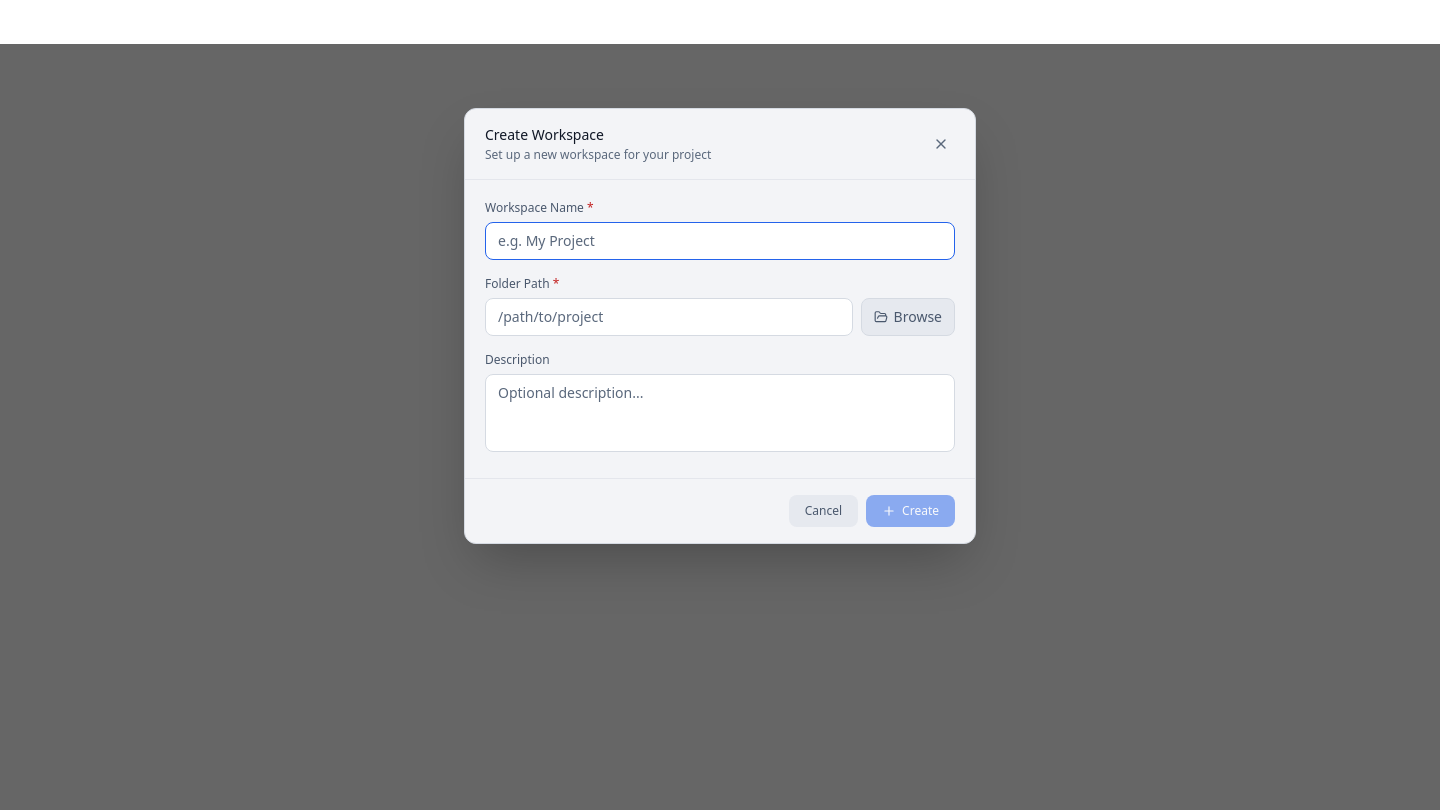
Test: CreateWorkspaceModal › shows the degraded hint instead of a picker when the bridge is absent
The image size is (1440, 810).
Click the button "Browse" at (908, 317), box x1=861 y1=298 x2=955 y2=336
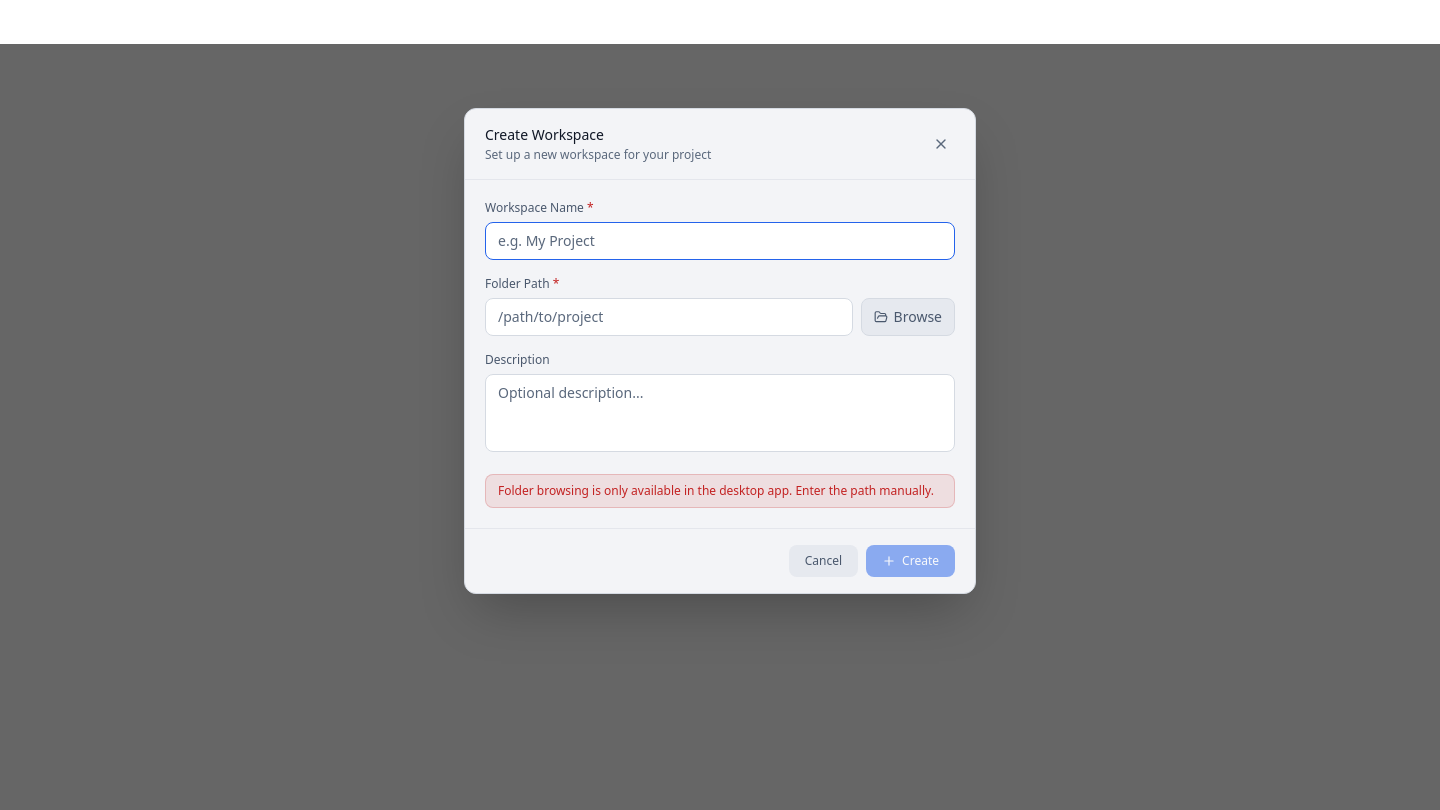
Result: the text "Folder browsing is only available in the desktop app. Enter the path manually." is shown at x1=485 y1=474 x2=955 y2=508
